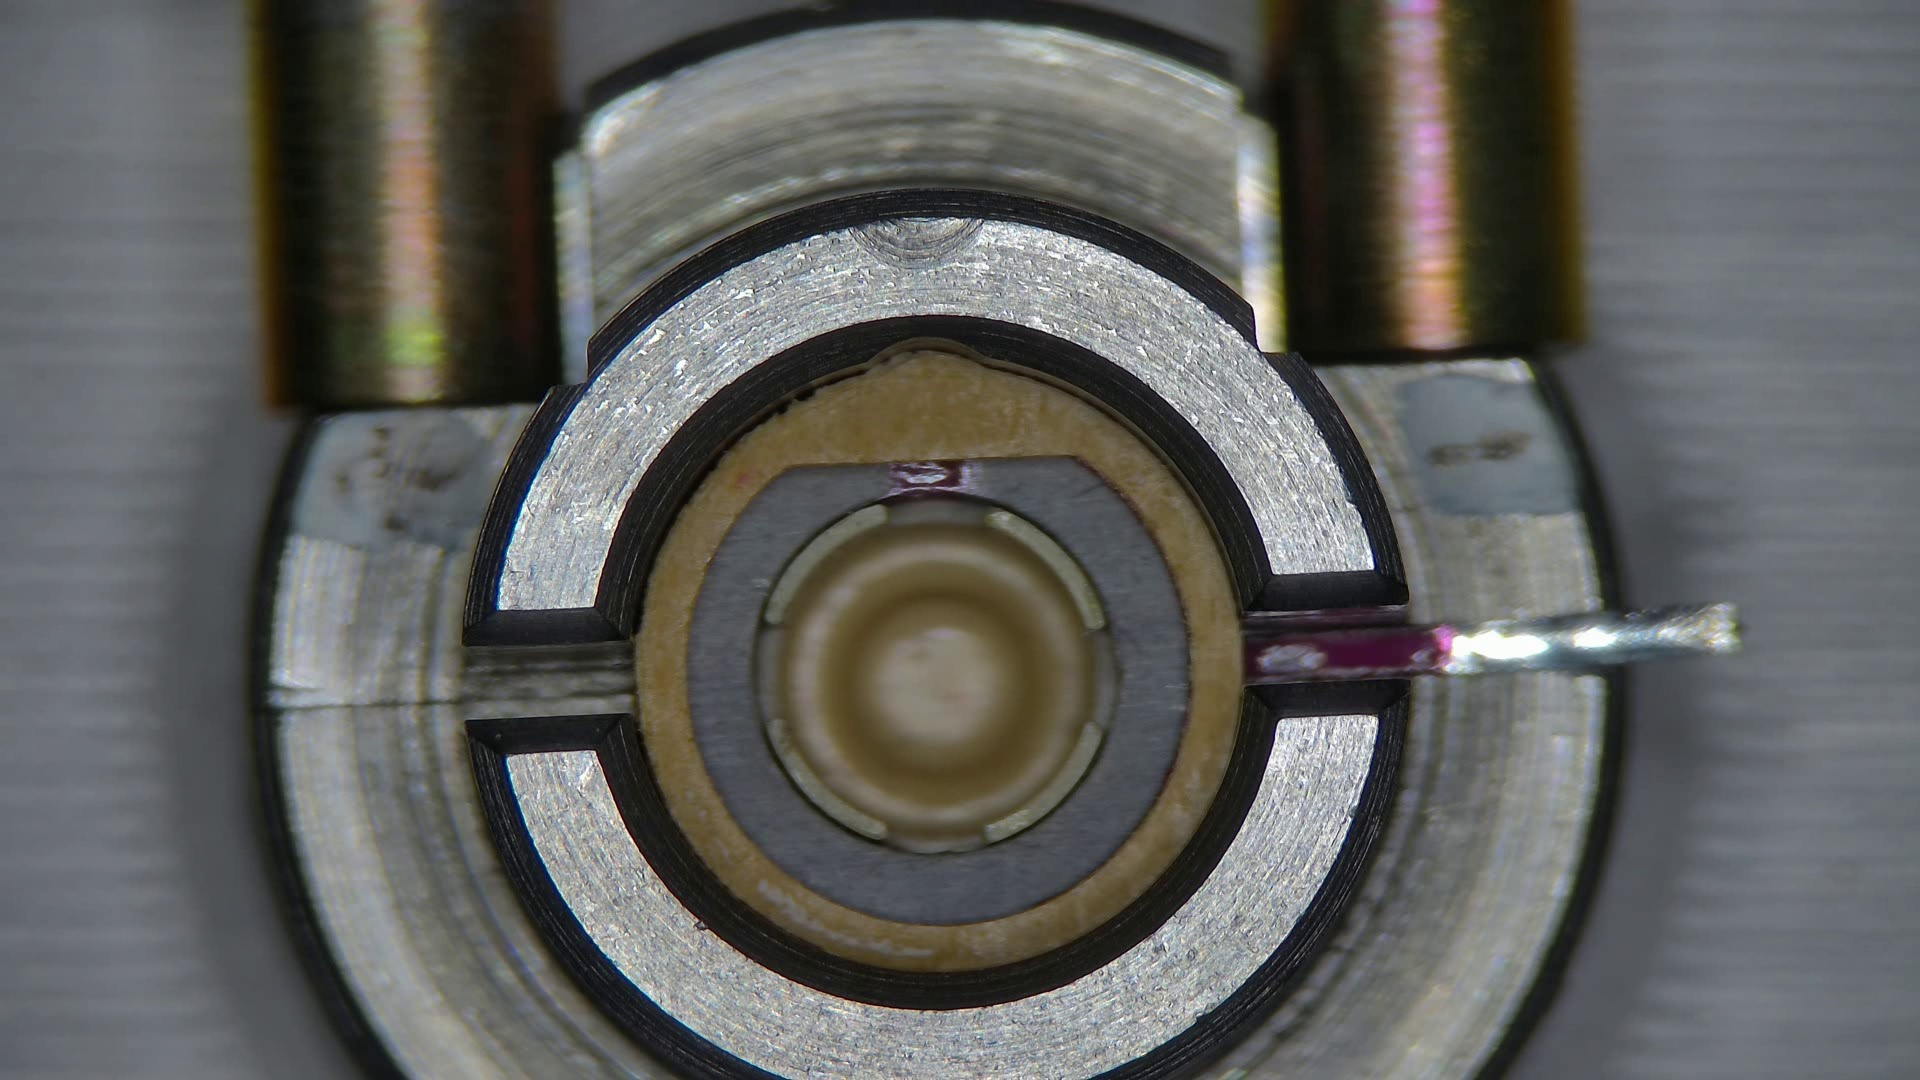YellowOring: (688, 458, 1188, 924)
redOring: (636, 349, 1245, 967)
